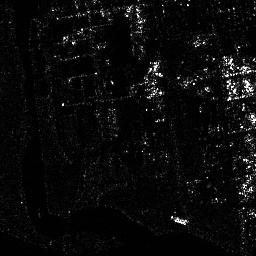ship: (168, 213, 188, 225)
